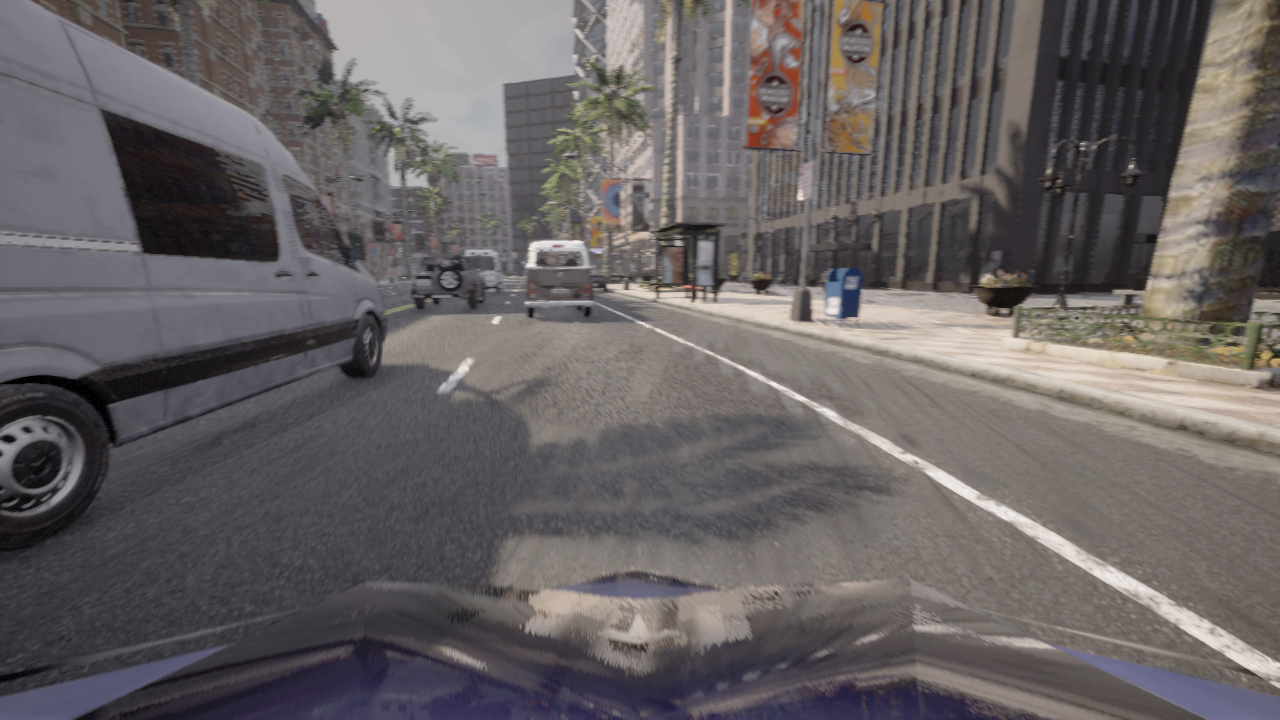cyclist: (0, 569, 1279, 719), (521, 240, 593, 318), (410, 254, 485, 310), (464, 249, 504, 293), (591, 268, 607, 291)
